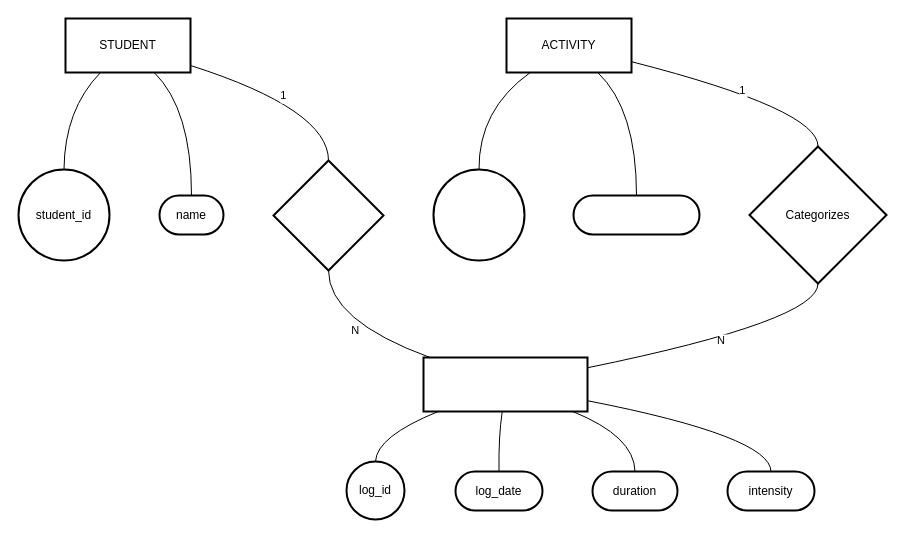
This 904x537 diagram has some shape labels left out. Each missing label, with the centre of its shape:
activity_id: the point at 478,214
activity_name: the point at 636,214
EXERCISE_LOG: the point at 505,384
Records: the point at 328,215
